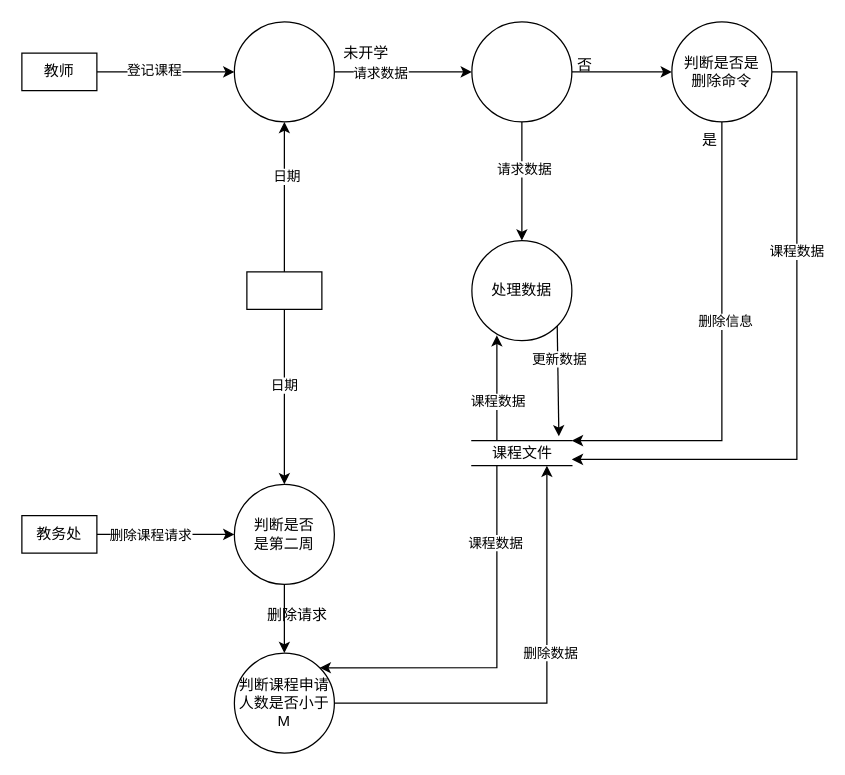
Image size: 845x775. Some labels were removed from this diagram. The shapes that lost their labels are listed below. From the top down, each one's box as (x1, y1, x2, y2) in pixels, then its label:
(233, 21, 334, 122): 判断是否开学
(471, 21, 572, 122): 判断是否是 修改命令
(246, 271, 322, 309): 时钟
